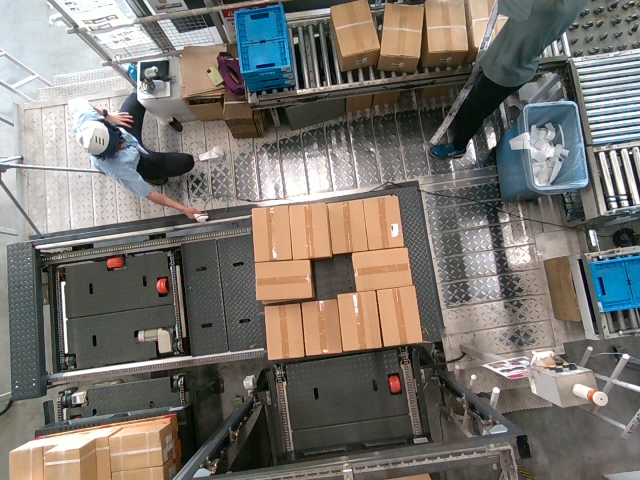box: (376, 283, 423, 341), (336, 289, 380, 347), (249, 203, 291, 260), (261, 304, 303, 357), (288, 201, 329, 254), (328, 196, 368, 250), (350, 251, 410, 287), (253, 263, 311, 299), (365, 194, 405, 246), (301, 301, 341, 353)
